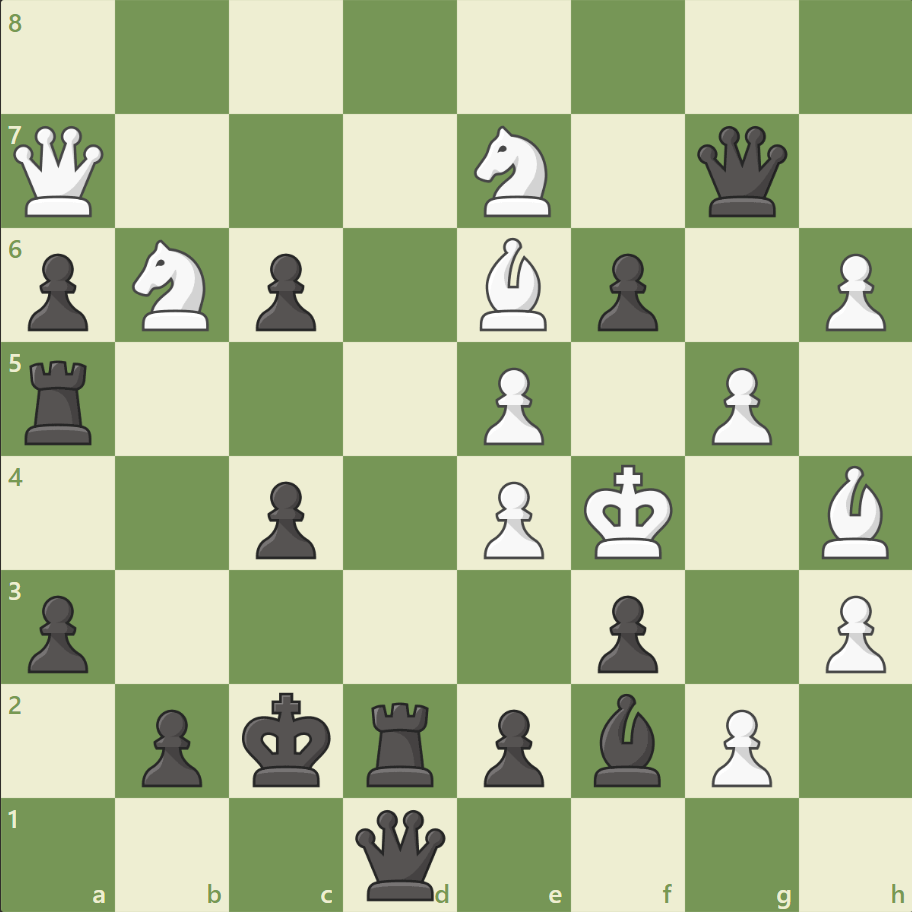B: (471, 233, 555, 336), (812, 460, 896, 563)
K: (579, 458, 679, 566)
N: (124, 234, 222, 337), (465, 121, 562, 223)
P: (474, 359, 549, 450), (701, 359, 776, 450), (474, 473, 549, 564), (701, 700, 776, 791), (815, 246, 889, 337), (815, 586, 889, 677)
Q: (10, 122, 109, 222)
b: (585, 687, 669, 790)
k: (238, 685, 338, 793)
p: (20, 246, 95, 337), (247, 246, 322, 337), (247, 473, 322, 564), (20, 586, 95, 677), (133, 700, 208, 791), (474, 700, 549, 791), (588, 246, 662, 337), (588, 586, 662, 677)
q: (691, 122, 790, 222), (351, 804, 450, 903)
r: (19, 352, 102, 449), (360, 693, 442, 790)
